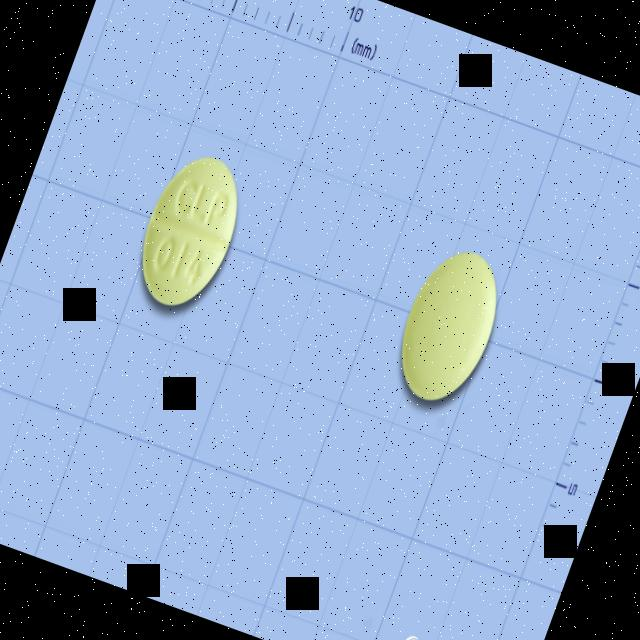Immuthera: (123, 142, 256, 320)
